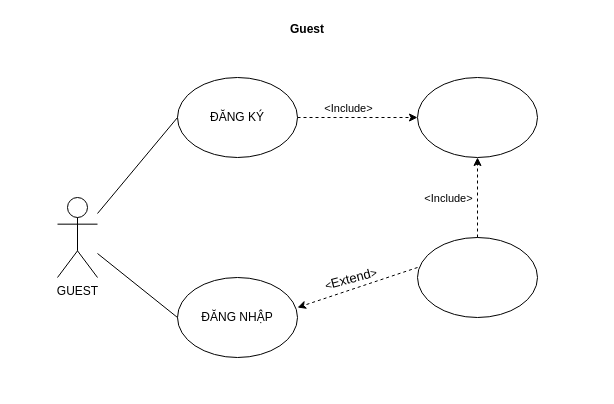
This 614x404 diagram has some shape labels left out. The centre of each missing label's shape, as x and y in pixels:
"QUÊN MẬT KHẨU" goes at point 477,277.
"XÁC THỰC EMAIL" goes at point 477,117.
